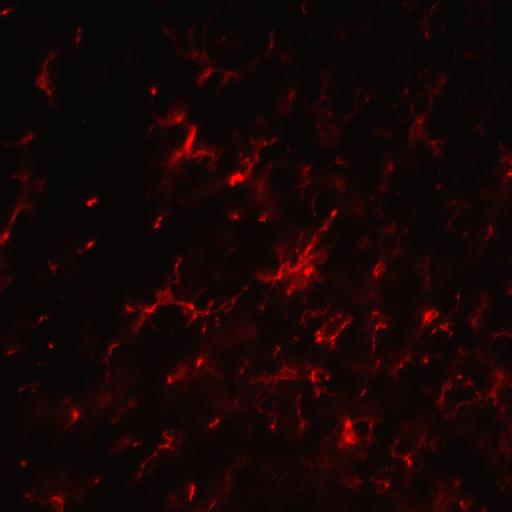microglia: (286, 256, 322, 282), (184, 120, 197, 158), (420, 305, 440, 324), (229, 169, 248, 188), (303, 236, 319, 256), (369, 259, 385, 278), (273, 260, 285, 284), (18, 131, 36, 147), (303, 266, 319, 280), (441, 320, 454, 337), (342, 432, 358, 444), (351, 474, 363, 490), (404, 450, 413, 470), (286, 86, 297, 102), (70, 407, 80, 424), (85, 197, 100, 208), (142, 304, 158, 314), (0, 228, 10, 244), (327, 206, 340, 218), (342, 417, 353, 431), (201, 66, 212, 80), (194, 355, 204, 370), (310, 366, 318, 384), (179, 302, 197, 310), (198, 150, 214, 159), (340, 319, 351, 332), (244, 157, 254, 171), (373, 321, 387, 331), (188, 484, 196, 501), (279, 364, 292, 374), (173, 149, 183, 161), (326, 332, 339, 340), (168, 289, 174, 306), (174, 113, 184, 123), (257, 215, 269, 223), (312, 328, 323, 336), (384, 476, 390, 490), (279, 375, 291, 382), (430, 326, 438, 336), (456, 294, 464, 304), (488, 227, 496, 237), (320, 222, 328, 232), (415, 118, 425, 126), (52, 498, 65, 504), (159, 288, 168, 296), (87, 240, 94, 250), (150, 86, 157, 96), (2, 7, 8, 18), (203, 309, 211, 317), (316, 335, 324, 343), (214, 416, 220, 426), (375, 357, 380, 369), (440, 393, 446, 403), (264, 273, 270, 283), (506, 170, 512, 180), (38, 317, 46, 324), (331, 340, 339, 347), (422, 356, 429, 364), (370, 344, 377, 352), (497, 372, 504, 380), (459, 500, 466, 508), (192, 311, 198, 320), (208, 299, 214, 308), (126, 305, 133, 312), (110, 343, 117, 350), (166, 436, 173, 443), (232, 214, 239, 221), (47, 343, 54, 350), (324, 374, 330, 382), (167, 376, 173, 384), (158, 444, 164, 452), (304, 165, 310, 173), (154, 222, 160, 230), (10, 348, 18, 354), (40, 81, 46, 89), (38, 74, 46, 80), (398, 362, 404, 370), (294, 246, 300, 254), (299, 422, 306, 428), (269, 423, 276, 429), (210, 501, 216, 508), (157, 215, 164, 221), (268, 42, 274, 49), (46, 89, 52, 96), (373, 310, 380, 316), (490, 392, 497, 398), (210, 420, 214, 430), (292, 369, 297, 377), (316, 388, 320, 397), (175, 260, 178, 272), (290, 283, 296, 289), (388, 164, 394, 170), (164, 443, 169, 450), (287, 289, 292, 296), (456, 374, 463, 379), (361, 389, 365, 397), (369, 422, 373, 430), (231, 297, 235, 305), (224, 72, 228, 80), (94, 479, 100, 484), (75, 38, 80, 44), (276, 345, 280, 352), (432, 139, 436, 146), (447, 385, 452, 390), (202, 327, 206, 333), (162, 430, 166, 436), (261, 142, 267, 146), (14, 209, 20, 213), (11, 216, 17, 220), (372, 337, 376, 343), (406, 356, 410, 362), (472, 320, 476, 326), (506, 333, 512, 337), (240, 369, 244, 374), (330, 318, 334, 323), (22, 461, 25, 467), (340, 442, 342, 450), (134, 442, 138, 446), (215, 317, 219, 321), (244, 286, 248, 290), (141, 463, 145, 467), (51, 266, 55, 270), (337, 313, 341, 317), (442, 387, 446, 391), (154, 452, 157, 457), (468, 381, 471, 386), (496, 333, 499, 338), (262, 304, 264, 311), (494, 400, 496, 406), (298, 410, 300, 414), (476, 393, 479, 395)
